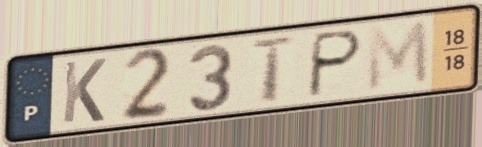2: (121, 46, 174, 126)
3: (185, 39, 236, 115)
K: (59, 56, 109, 126)
M: (365, 18, 433, 95)
P: (304, 27, 367, 101)
T: (247, 34, 300, 105)
